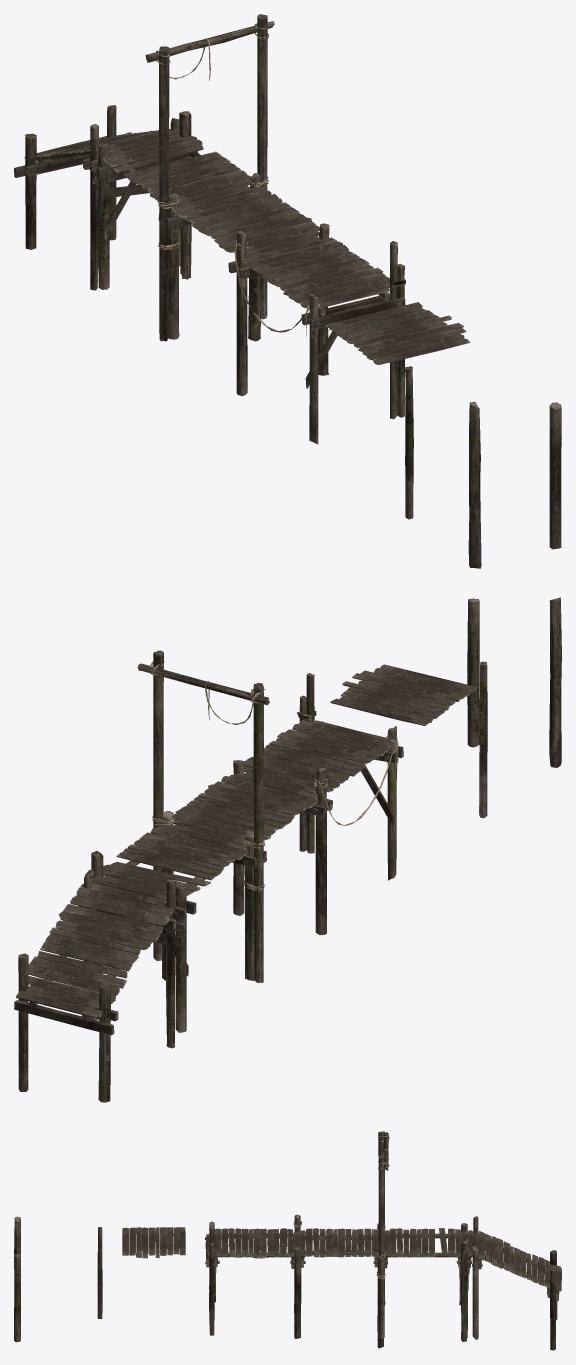
The model's file is modular_wooden_pier.glb.
The picture shows the model from 3 angles, top to bottom: view 1: azimuth 30°, elevation 25°; view 2: azimuth 150°, elevation 25°; view 3: azimuth 270°, elevation 25°; orthographic projection. The views are drawn at different scales.
Parts seen in each view (by area): view 1: modular_wooden_pier; view 2: modular_wooden_pier; view 3: modular_wooden_pier.
Boxes of the visible parts, <box> form: modular_wooden_pier: <box>14,14,561,568</box>; modular_wooden_pier: <box>14,597,561,1102</box>; modular_wooden_pier: <box>14,1131,561,1350</box>.
Bounding box in the file's own units: 3.08 × 7.51 × 19.03.
Materials: 3 (3 with a texture image).
